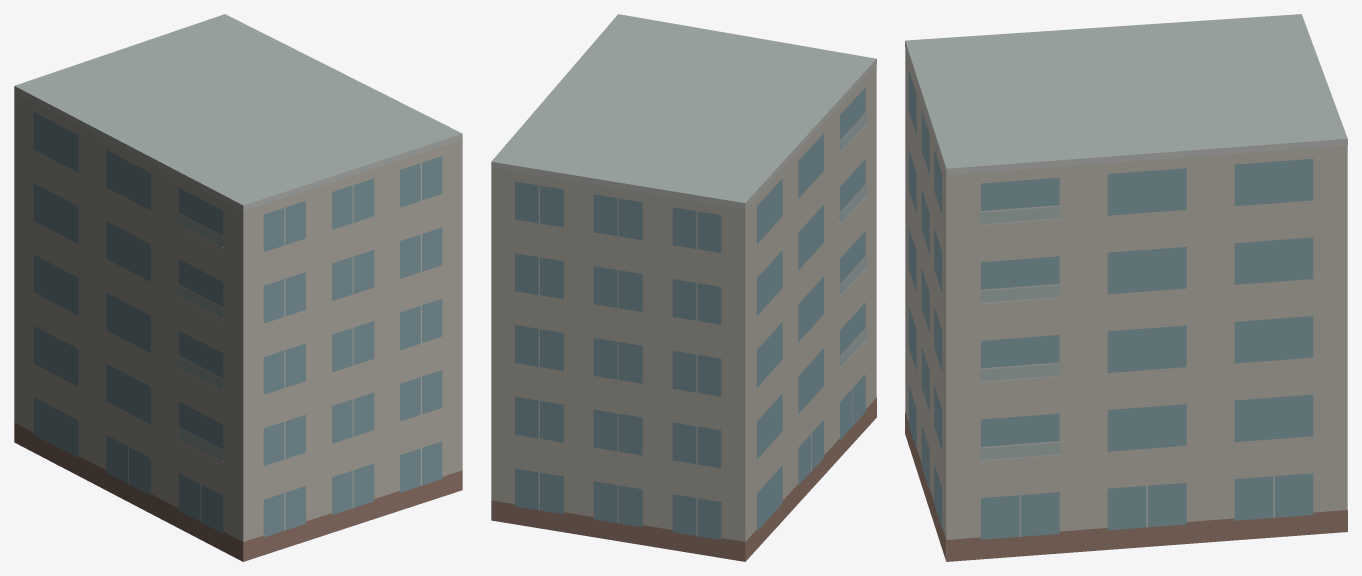
Rendered from survey-upis-32882591.glb.
3 renders of one model, left to right at view 1: azimuth 30°, elevation 25°; view 2: azimuth 150°, elevation 25°; view 3: azimuth 270°, elevation 25°, orthographic. The views are drawn at different scales.
Visible parts, largest first — view 1: survey-upis-32882591.tmp; view 2: survey-upis-32882591.tmp; view 3: survey-upis-32882591.tmp.
Part boxes in pixels (x1,y1,x2,y2): survey-upis-32882591.tmp: (14, 14, 462, 561); survey-upis-32882591.tmp: (491, 14, 876, 561); survey-upis-32882591.tmp: (905, 14, 1347, 561).
Bounding box in the file's own units: 12.33 × 14.6 × 14.91.
